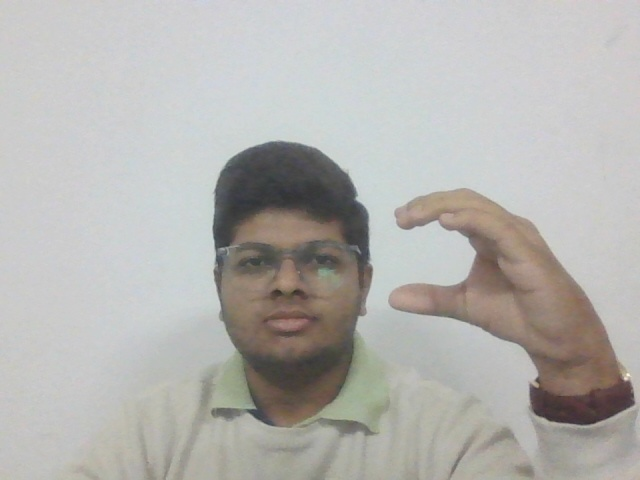C: (382, 184, 610, 367)
